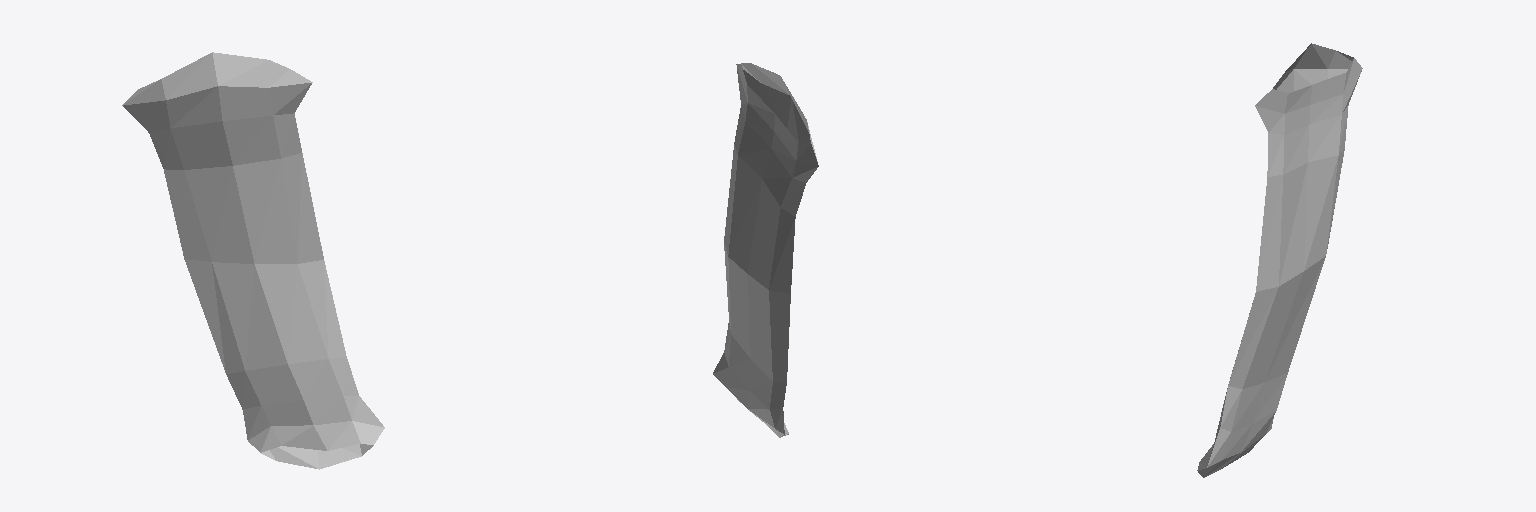
Rendered from Levator_Labii_Superioris_Muscle_Right_02.obj.
3 renders of one model, left to right at view 1: azimuth 30°, elevation 25°; view 2: azimuth 150°, elevation 25°; view 3: azimuth 270°, elevation 25°, orthographic.
Parts seen in each view (by area): view 1: Levator_Labii_Superioris_Muscle_Right1_Mesh group1; view 2: Levator_Labii_Superioris_Muscle_Right1_Mesh group1; view 3: Levator_Labii_Superioris_Muscle_Right1_Mesh group1.
Boxes of the visible parts, box(x1,y1,x2,y2) form: Levator_Labii_Superioris_Muscle_Right1_Mesh group1: box(122, 52, 384, 469); Levator_Labii_Superioris_Muscle_Right1_Mesh group1: box(713, 63, 818, 437); Levator_Labii_Superioris_Muscle_Right1_Mesh group1: box(1197, 43, 1362, 477).
Size of the model in its own units: 0.2342 by 0.4824 by 0.1819.